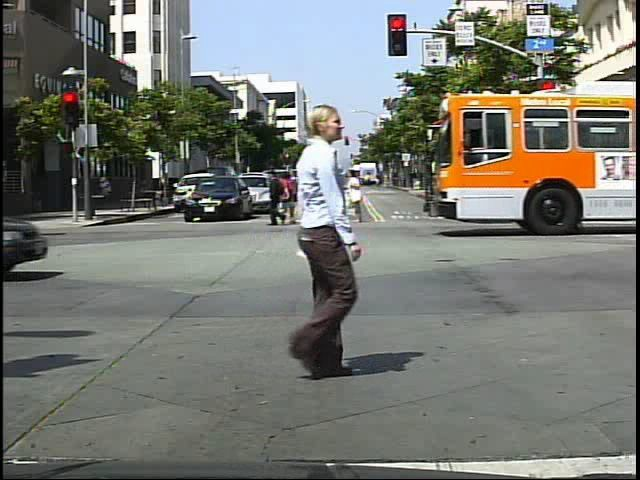person: (237, 89, 374, 388), (262, 164, 296, 236), (271, 167, 300, 228), (346, 163, 366, 224), (551, 160, 574, 211)
